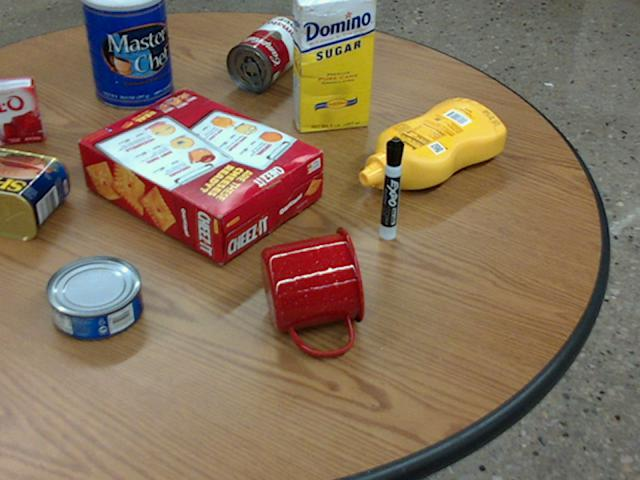cracker_box: (79, 88, 322, 263)
gelatin_box: (0, 76, 44, 143)
large_marker: (379, 137, 403, 239)
master_chef_can: (83, 0, 173, 107)
mug: (259, 226, 365, 355)
mustard_bottle: (359, 98, 504, 188)
potted_meat_can: (0, 148, 68, 238)
sugar_box: (293, 0, 375, 132)
tomato_soup_can: (225, 15, 303, 91)
tuna_fish_can: (45, 254, 140, 338)
